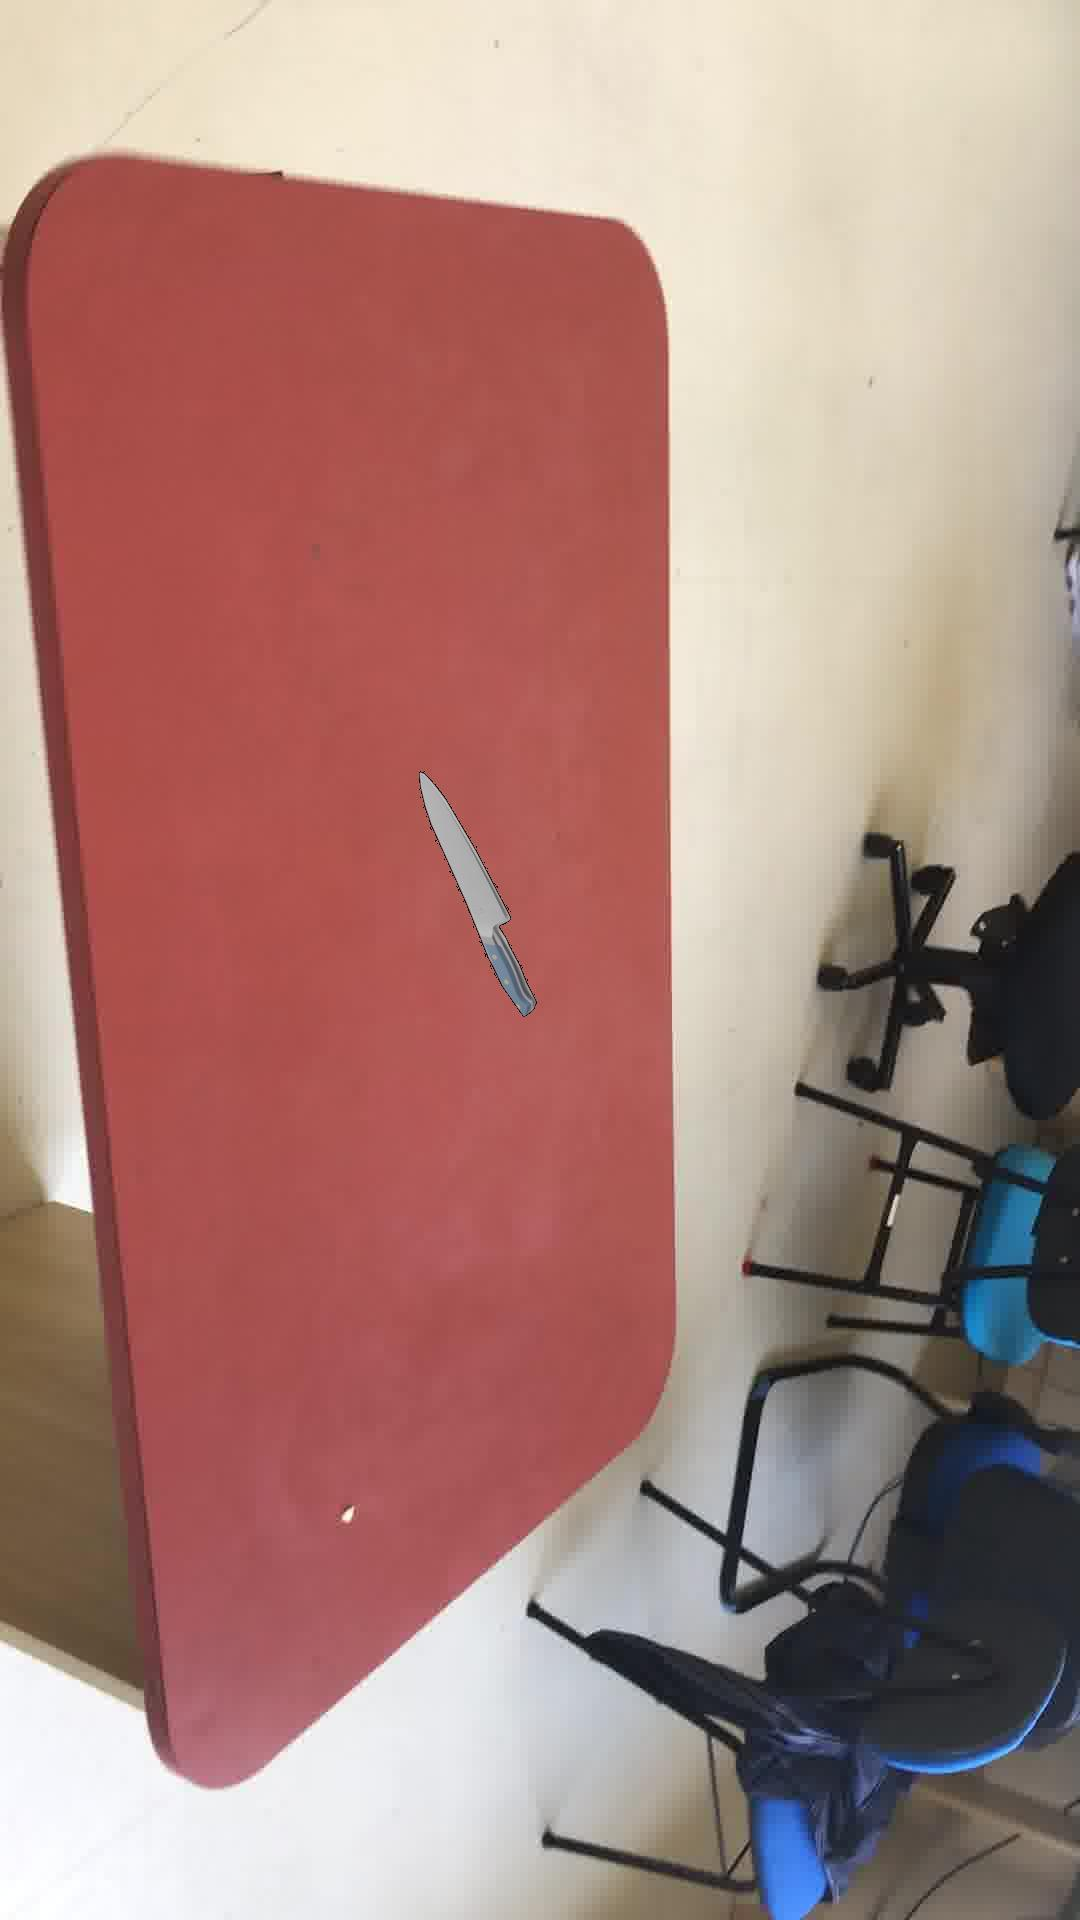knife: (418, 770, 535, 1015)
